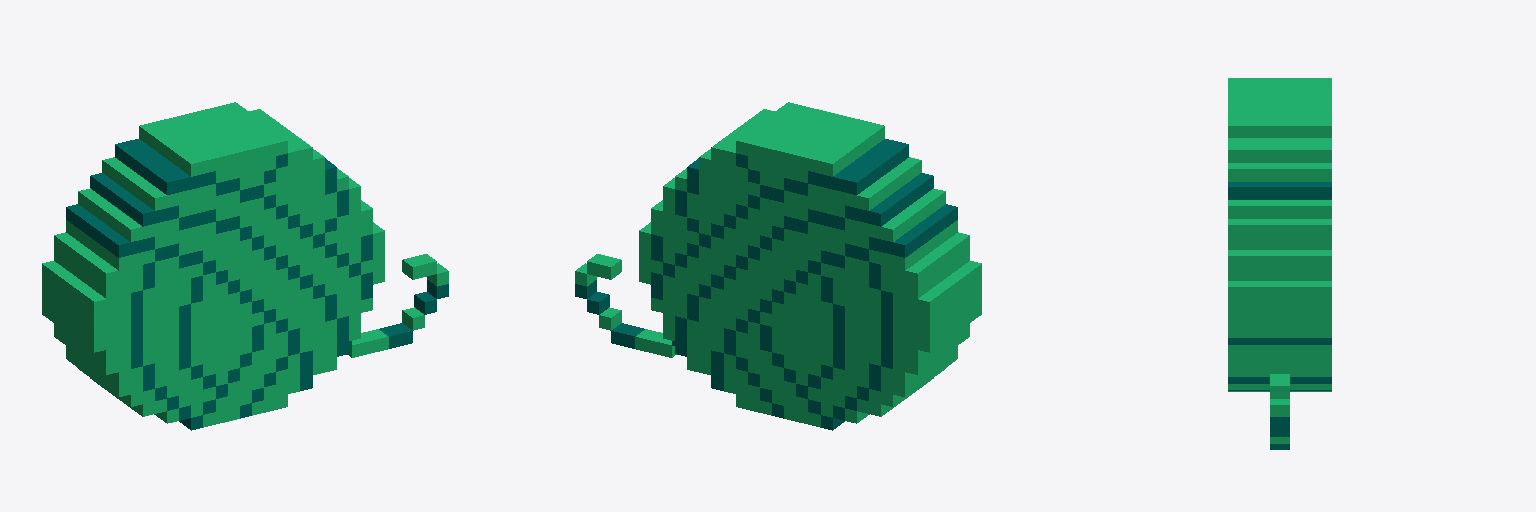
The model's file is GreenYarn.obj.
3 renders of one model, left to right at view 1: azimuth 30°, elevation 25°; view 2: azimuth 150°, elevation 25°; view 3: azimuth 270°, elevation 25°, orthographic.
Size of the model in its own units: 31 by 21 by 7.5.